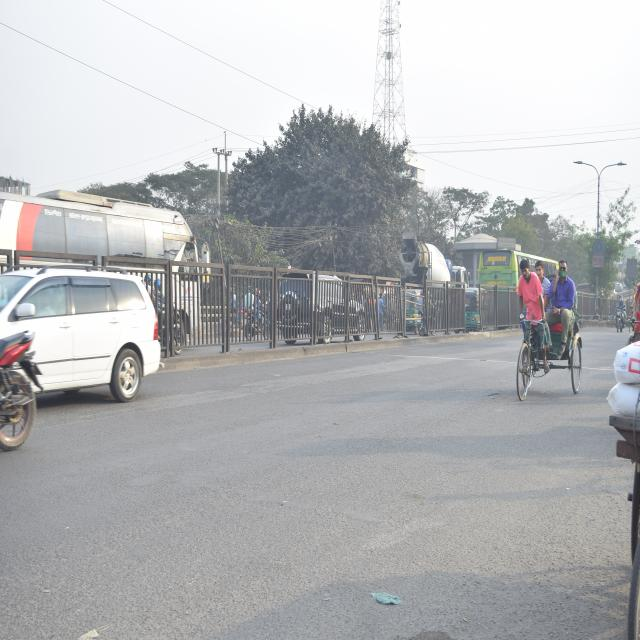car: (9, 255, 165, 415)
motorbike: (0, 319, 42, 456), (612, 293, 628, 336)
